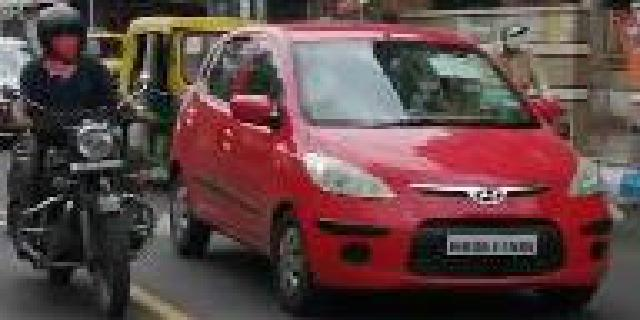Autorickshaw: (117, 14, 203, 178)
Car: (160, 21, 609, 307)
Motorbike: (10, 7, 155, 314)
